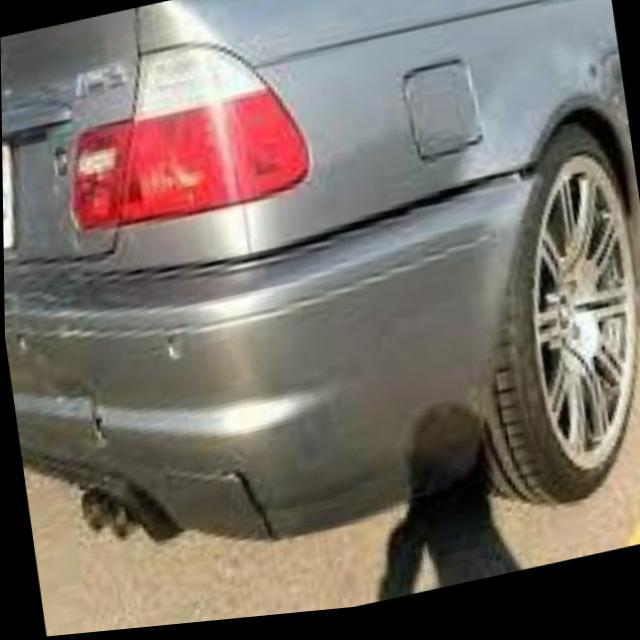crack: (66, 372, 127, 460)
dislocated part: (193, 162, 533, 303)
